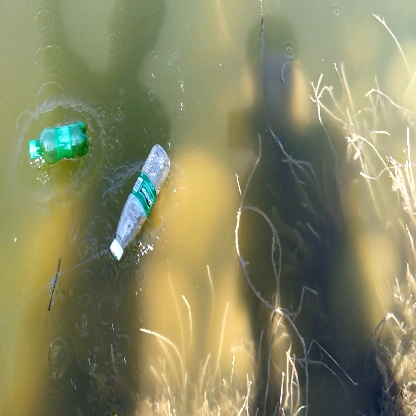bottle: (105, 142, 174, 261), (26, 122, 93, 168)
